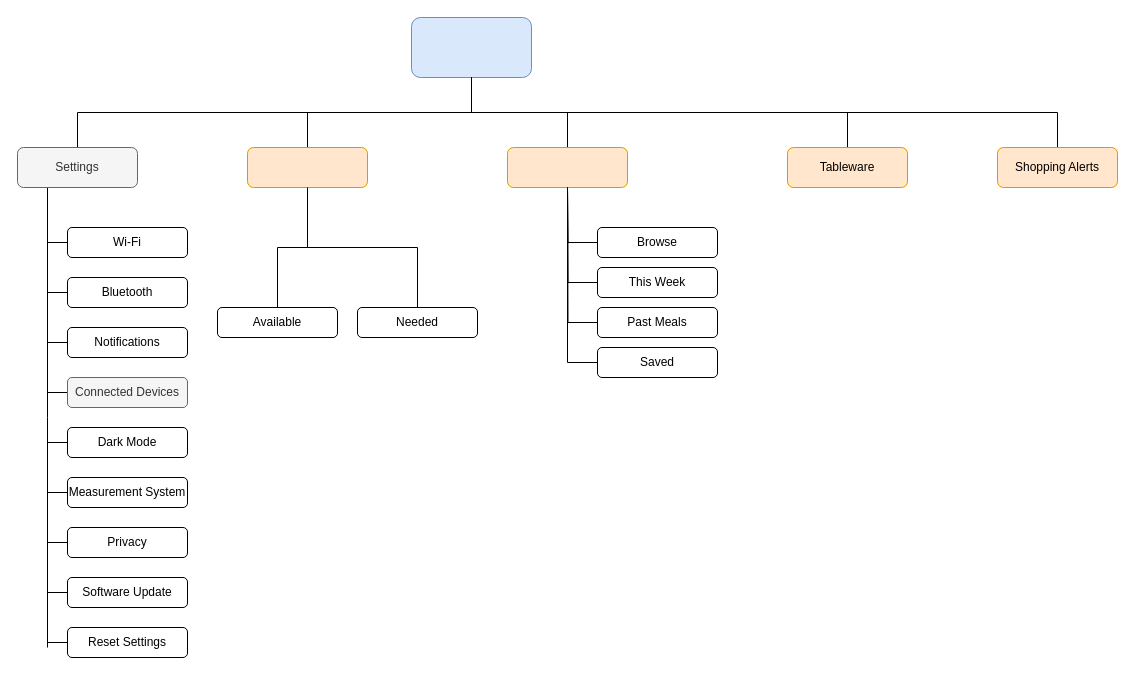
This 1135x675 diagram has some shape labels left out. Each missing label, with the centre of its shape:
HOMEPAGE: point (471, 47)
Ingredients: point (307, 167)
Recipes: point (567, 167)
